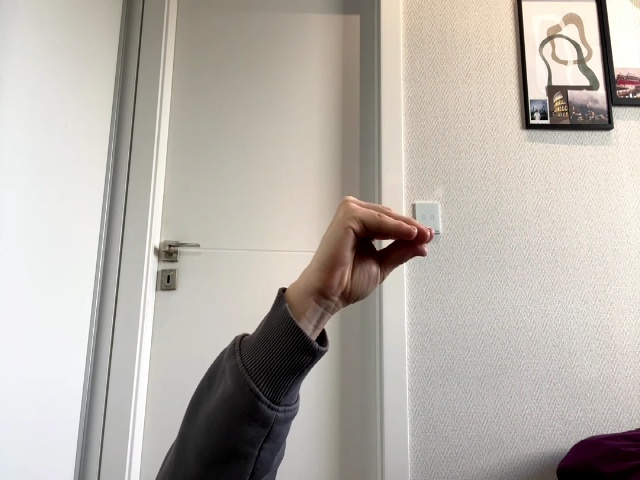E: (300, 196, 434, 334)
